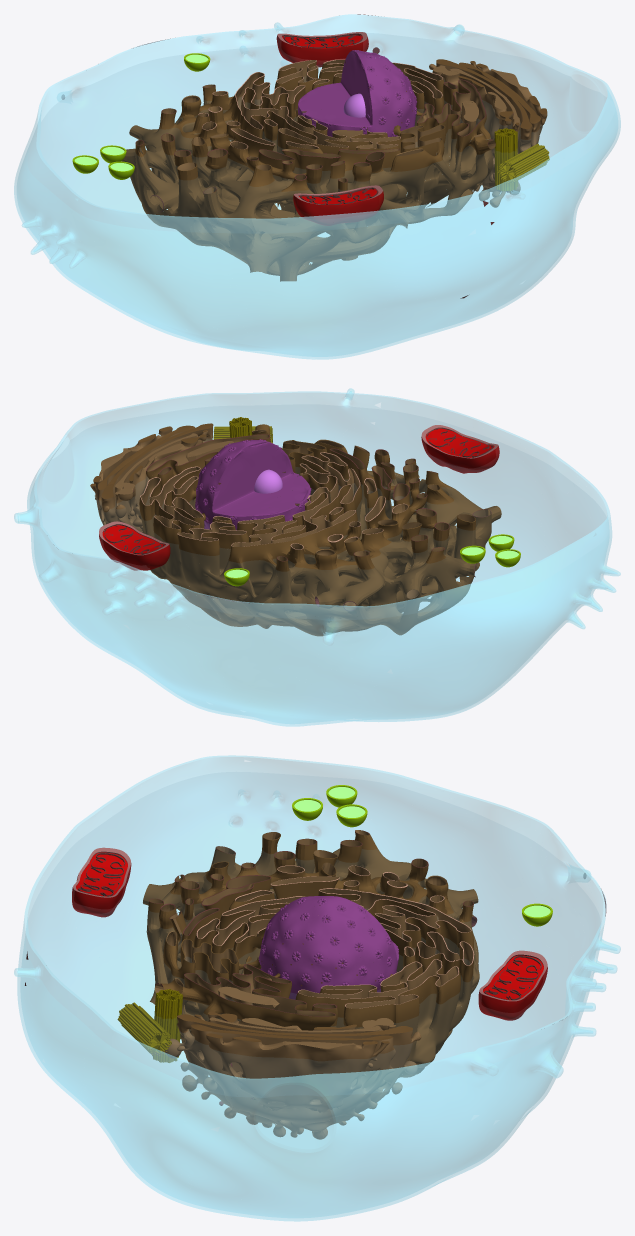
The model's file is animal_cell.glb.
The picture shows the model from 3 angles, top to bottom: view 1: azimuth 30°, elevation 25°; view 2: azimuth 150°, elevation 25°; view 3: azimuth 270°, elevation 25°; orthographic projection. The views are drawn at different scales.
Visible parts, largest first — view 1: Material2 (×31); view 2: Material2 (×28); view 3: Material2 (×31).
Part boxes in pixels (<box>): Material2 (×31): <box>14,14,620,359</box>; Material2 (×28): <box>18,388,620,726</box>; Material2 (×31): <box>14,755,620,1221</box>.
Size of the model in its own units: 422 by 197 by 337.
